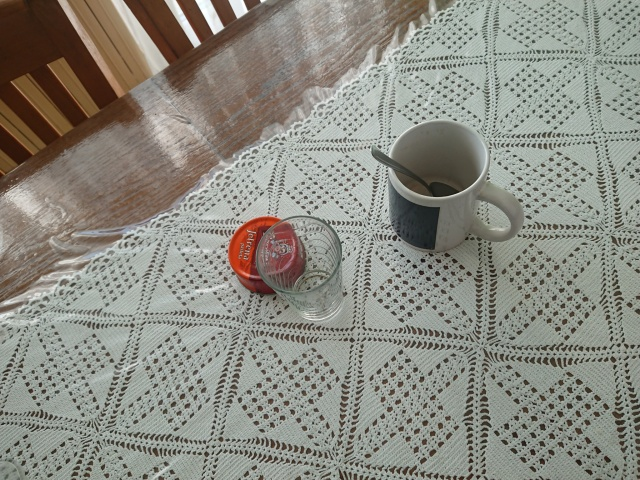Gavrilovic Pork Liver Pate 100g: (226, 214, 308, 297)
